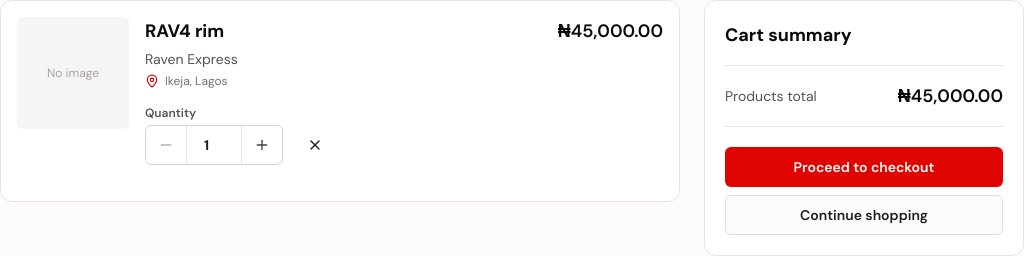
Test: cart controls › updates cart totals immediately without an Update button
Click the button named "Increase quantity of RAV4 rim": (262, 145) [242,126,282,164]
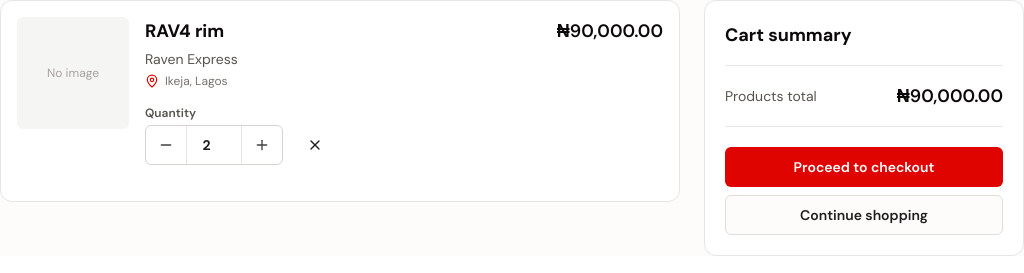
expect the text "₦90,000.00" in the row of "RAV4 rim" is shown: met, box [557,19,663,43]
